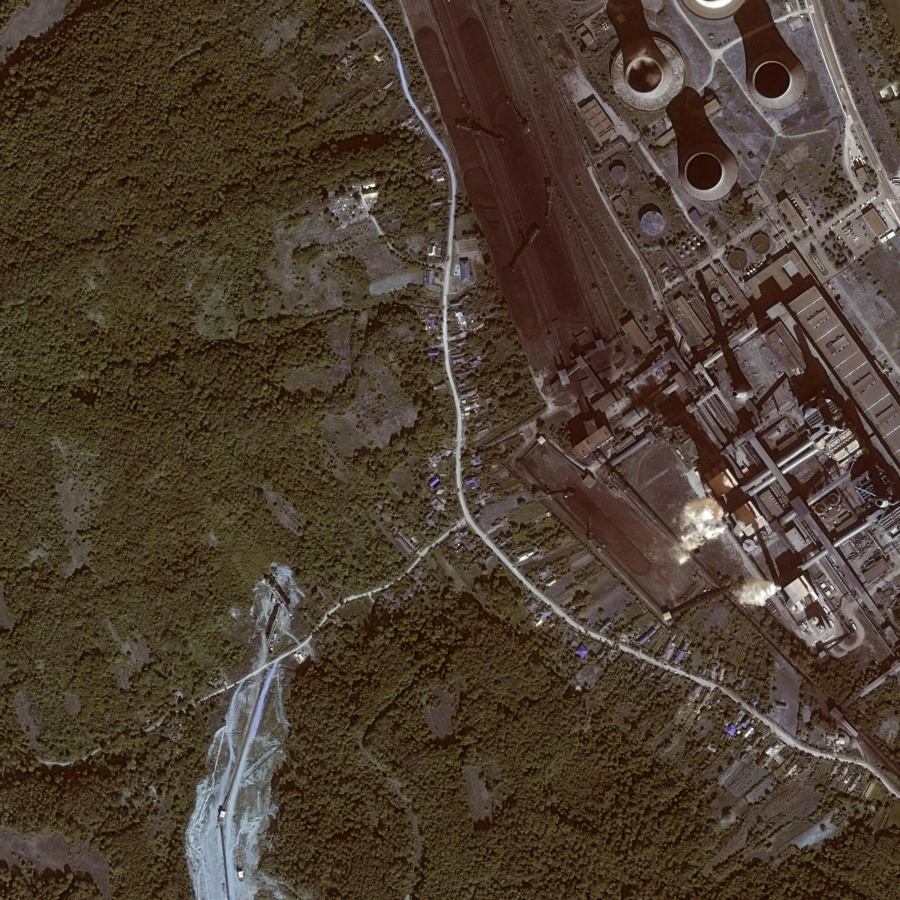PowerPlant: (564, 406, 779, 635)
